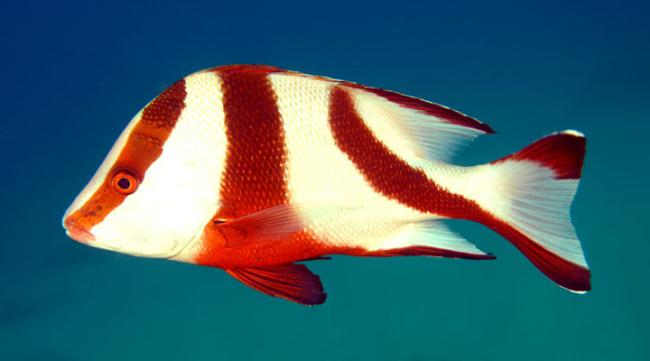fish: (61, 64, 593, 308)
